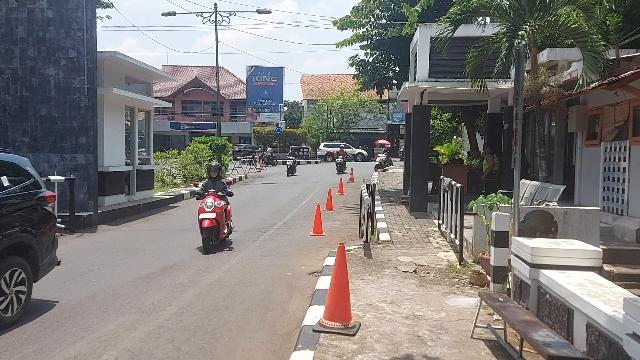helm: (208, 164, 222, 179), (292, 147, 296, 153), (341, 146, 345, 151), (385, 147, 389, 151)
motor: (199, 191, 236, 253), (376, 155, 391, 172), (287, 157, 298, 177), (337, 157, 348, 175)
